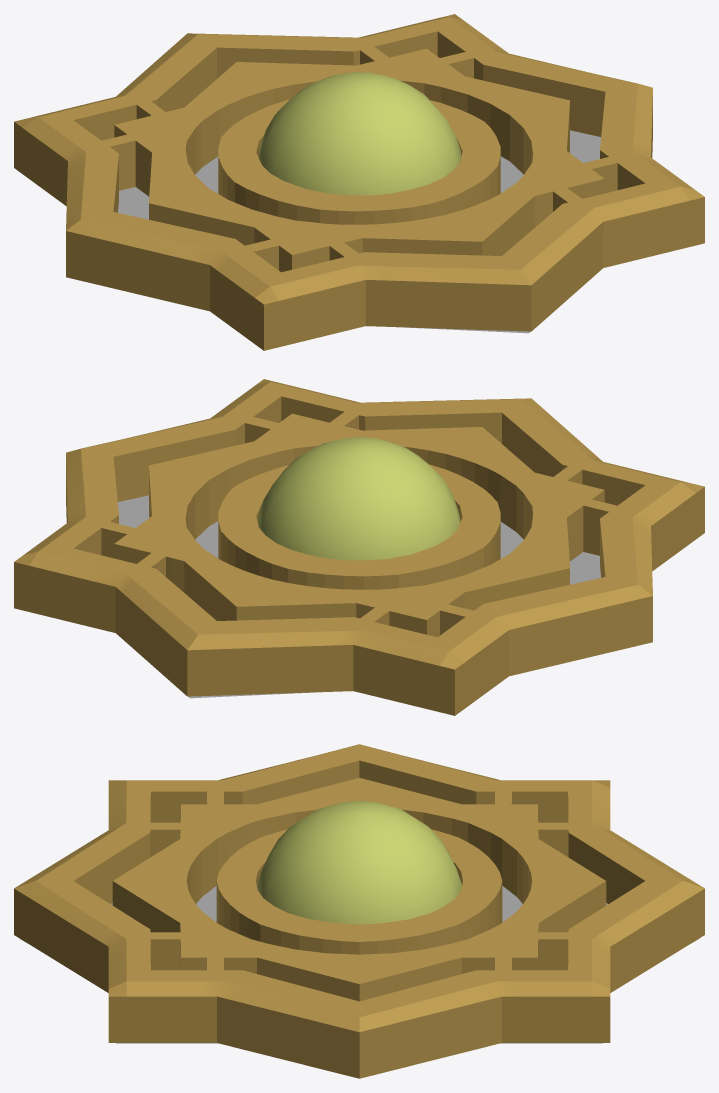
Rendered from Disp_Ponte.fbx.
3 views of the same model, one above another, from view 1: azimuth 30°, elevation 25°; view 2: azimuth 150°, elevation 25°; view 3: azimuth 270°, elevation 25° (orthographic).
Visible parts, largest first — view 1: polySurface13; view 2: polySurface13; view 3: polySurface13.
Boxes of the visible parts, x1=… form: polySurface13: x1=14, y1=14, x2=704, y2=350; polySurface13: x1=14, y1=379, x2=704, y2=715; polySurface13: x1=14, y1=744, x2=704, y2=1078.
Bounding box in the file's own units: 2 × 0.6162 × 2.03.
